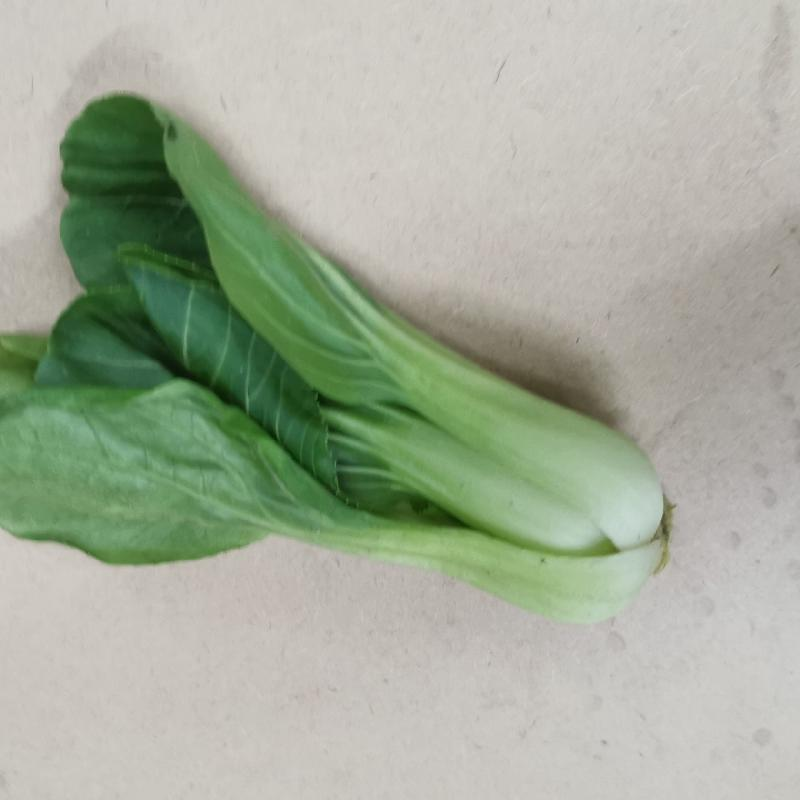green vegatable: (6, 85, 672, 652)
